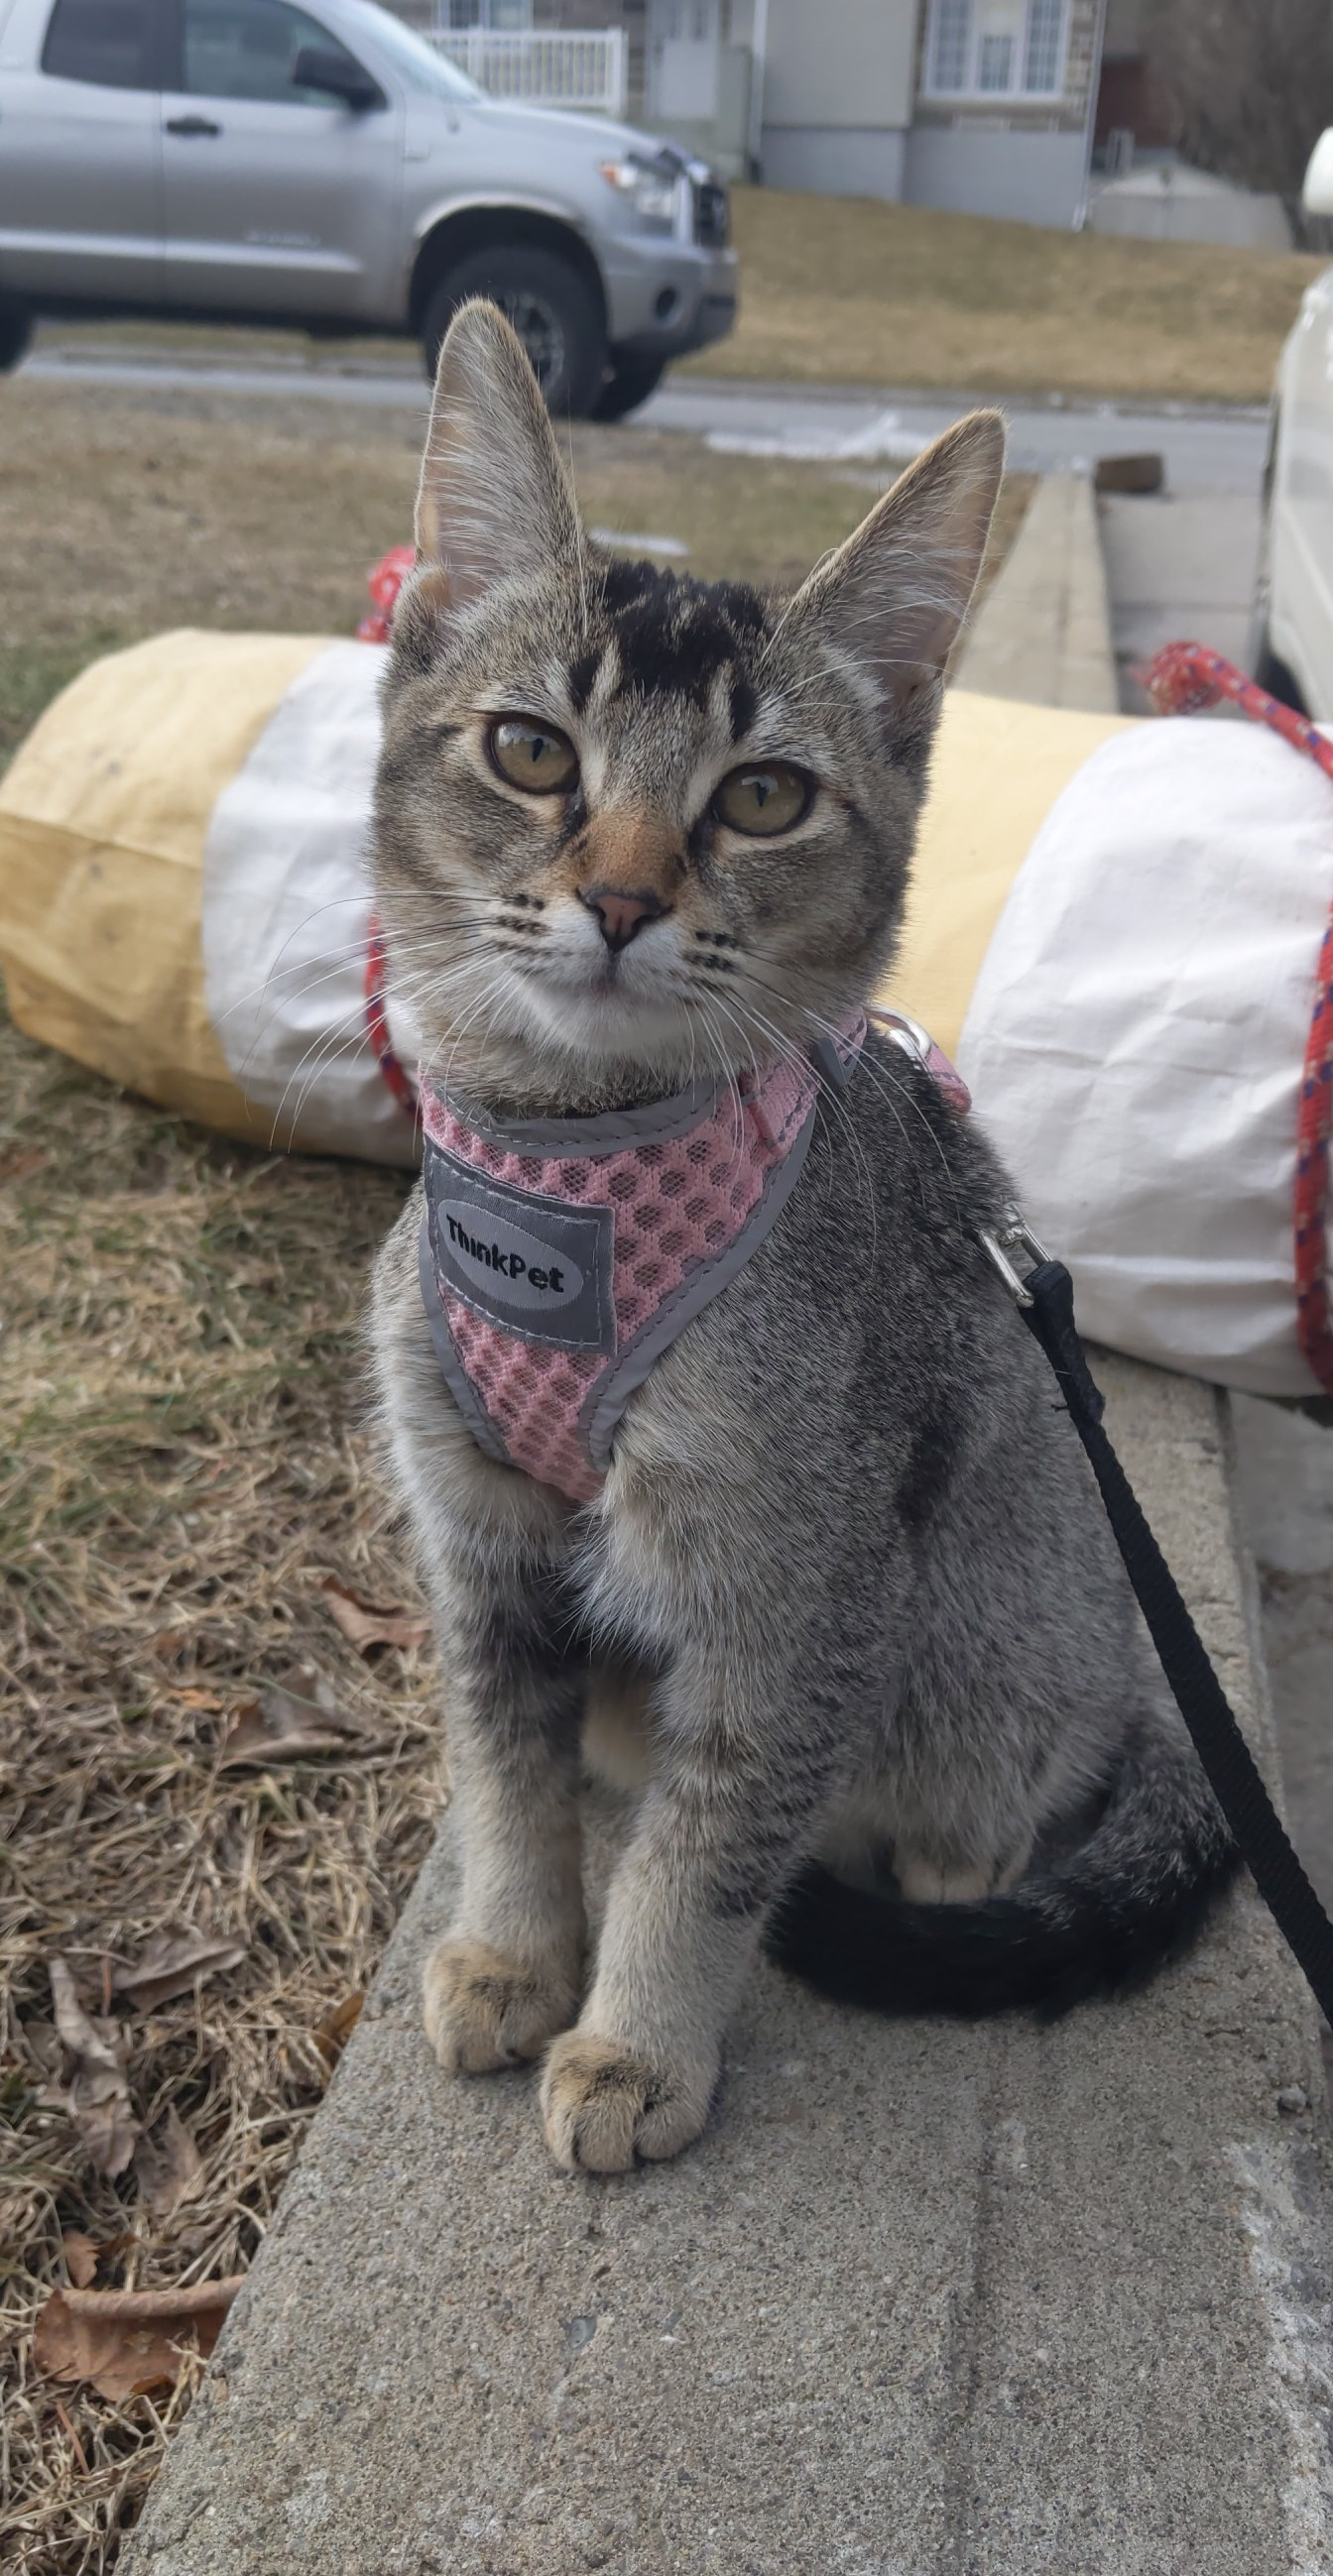luna: (362, 292, 1251, 2180)
